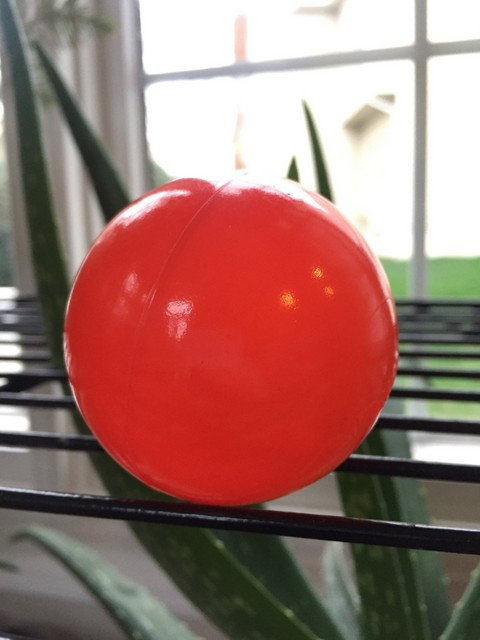Ball: (64, 171, 402, 507)
